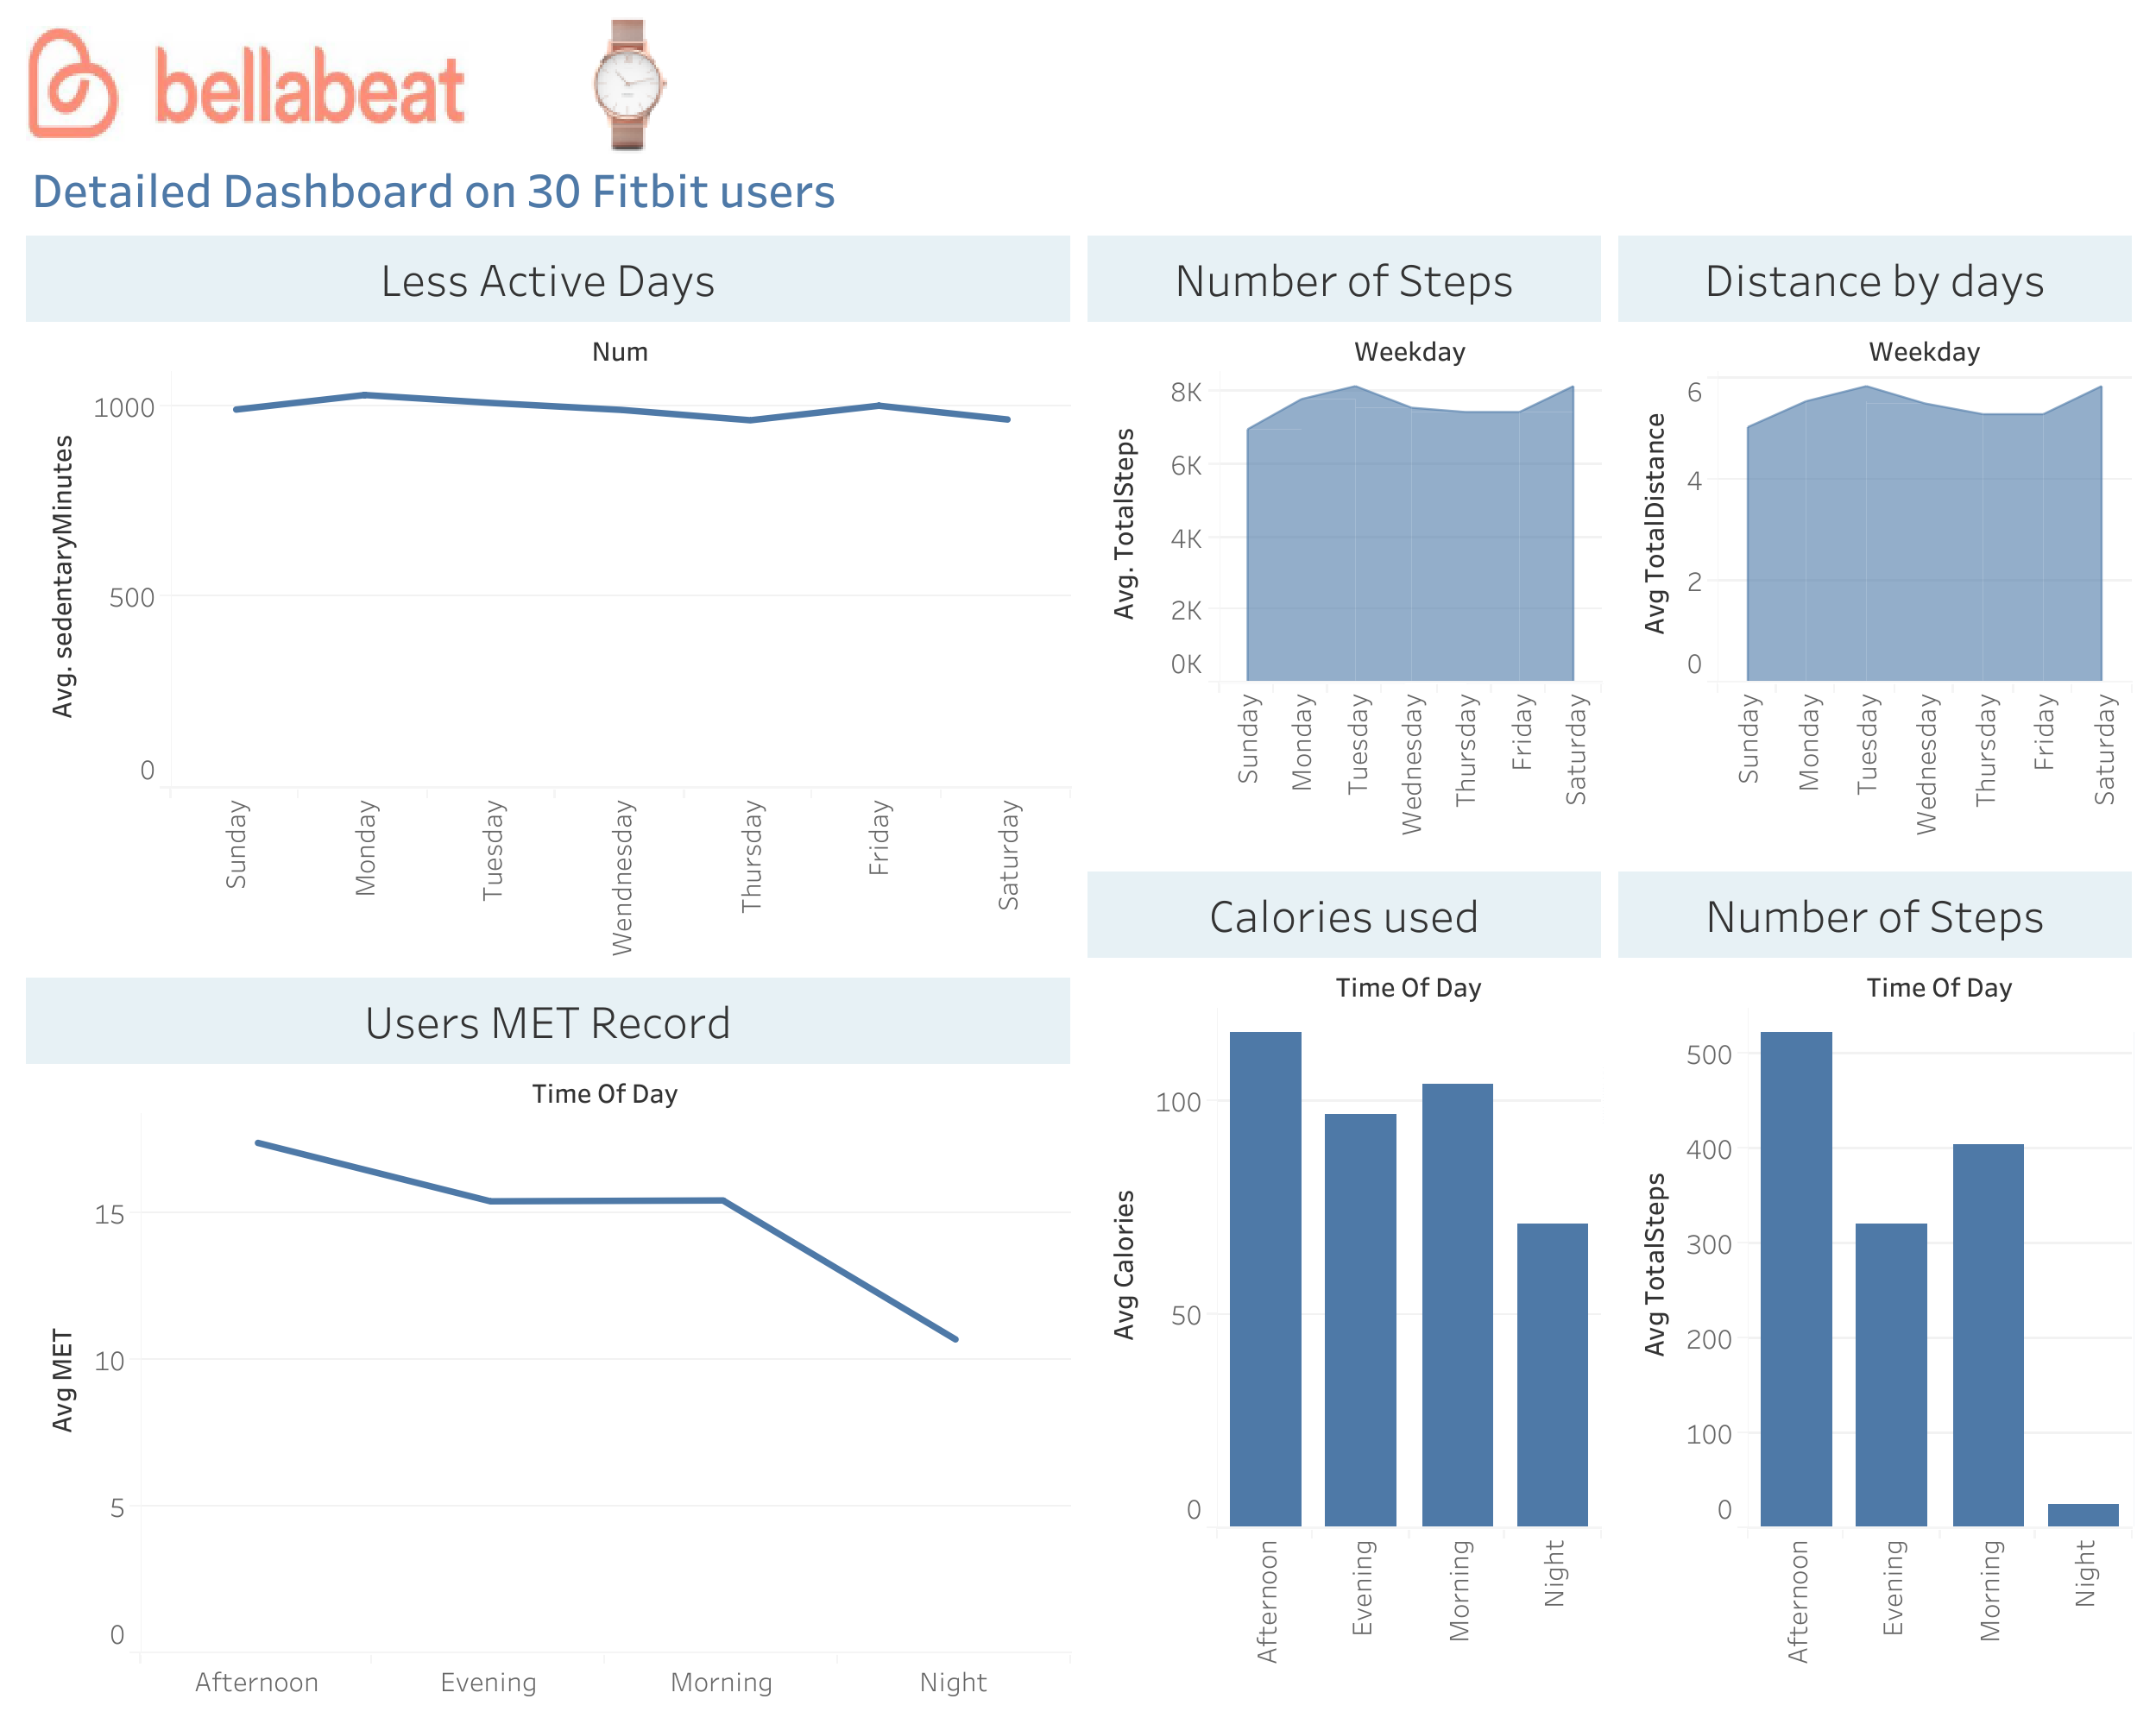

Layout of this report page (visuals, bound fields, positions):
{"tool":"tableau","page":{"name":"Dashboard 2","canvas":[1000,800],"ordinal":1},"visuals":[{"type":"image","param":"Image/bellabeat_watch 1.png","box":[220,4,194,69]},{"type":"image","param":"Image/bellabeat_logo 1.jpg","box":[8,8,984,62]},{"type":"text","box":[8,70,984,35]},{"type":"worksheet","title":"Sheet 7","mark":"Line","rows":["avg_sedentaryMinutes"],"cols":["num"],"box":[8,105,492,343.5]},{"type":"worksheet","title":"Sheet 9","mark":"Area","rows":["avg_TotalSteps"],"cols":["weekday"],"box":[500,105,246,295]},{"type":"worksheet","title":"Sheet 10","mark":"Area","rows":["avg_TotalDistance"],"cols":["weekday"],"box":[746,105,246,295]},{"type":"worksheet","title":"Sheet 4","mark":"Automatic","rows":["avg_Calories"],"cols":["time_of_day"],"box":[500,400,246,392]},{"type":"worksheet","title":"Sheet 5","mark":"Automatic","rows":["avg_TotalSteps"],"cols":["time_of_day"],"box":[746,400,246,392]},{"type":"worksheet","title":"Sheet 6","mark":"Line","rows":["f0_"],"cols":["time_of_day"],"box":[8,448.5,492,343.5]}]}

Visuals, with their boxes in screenshot pixels (x1, y1, x2, y2), scaled from the page's 1000x800 canvas onto the 2156x1724 screenshot:
image: locate(475, 9, 892, 157)
image: locate(17, 17, 2139, 151)
text: locate(17, 151, 2139, 226)
"Sheet 7" worksheet (Line marks): locate(17, 226, 1078, 966)
"Sheet 9" worksheet (Area marks): locate(1078, 226, 1609, 862)
"Sheet 10" worksheet (Area marks): locate(1609, 226, 2139, 862)
"Sheet 4" worksheet: locate(1078, 862, 1609, 1707)
"Sheet 5" worksheet: locate(1609, 862, 2139, 1707)
"Sheet 6" worksheet (Line marks): locate(17, 966, 1078, 1707)
